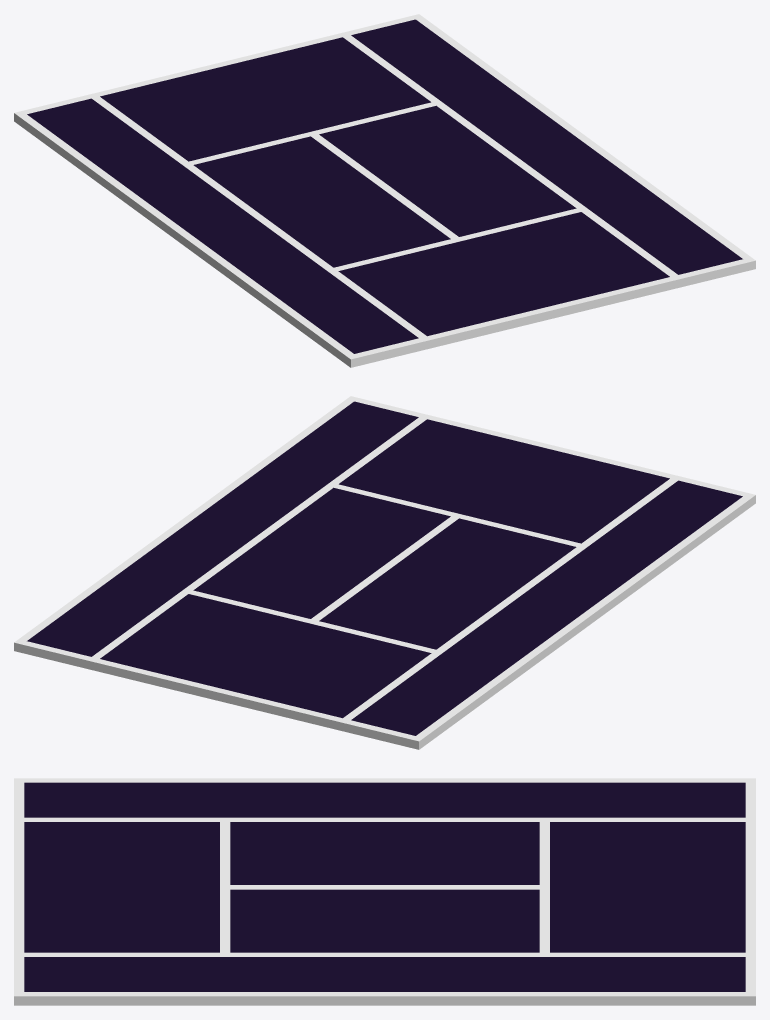
The model's file is Court9.fbx.
The picture shows the model from 3 angles, top to bottom: view 1: azimuth 30°, elevation 25°; view 2: azimuth 150°, elevation 25°; view 3: azimuth 270°, elevation 25°; orthographic projection. The views are drawn at different scales.
Parts seen in each view (by area): view 1: mergedBlocks; view 2: mergedBlocks; view 3: mergedBlocks.
Boxes of the visible parts, box(x1,y1,x2,y2) form: mergedBlocks: box(14, 14, 755, 367); mergedBlocks: box(14, 396, 755, 749); mergedBlocks: box(14, 778, 755, 1005).
Bounding box in the file's own units: 50 × 1 × 72.
